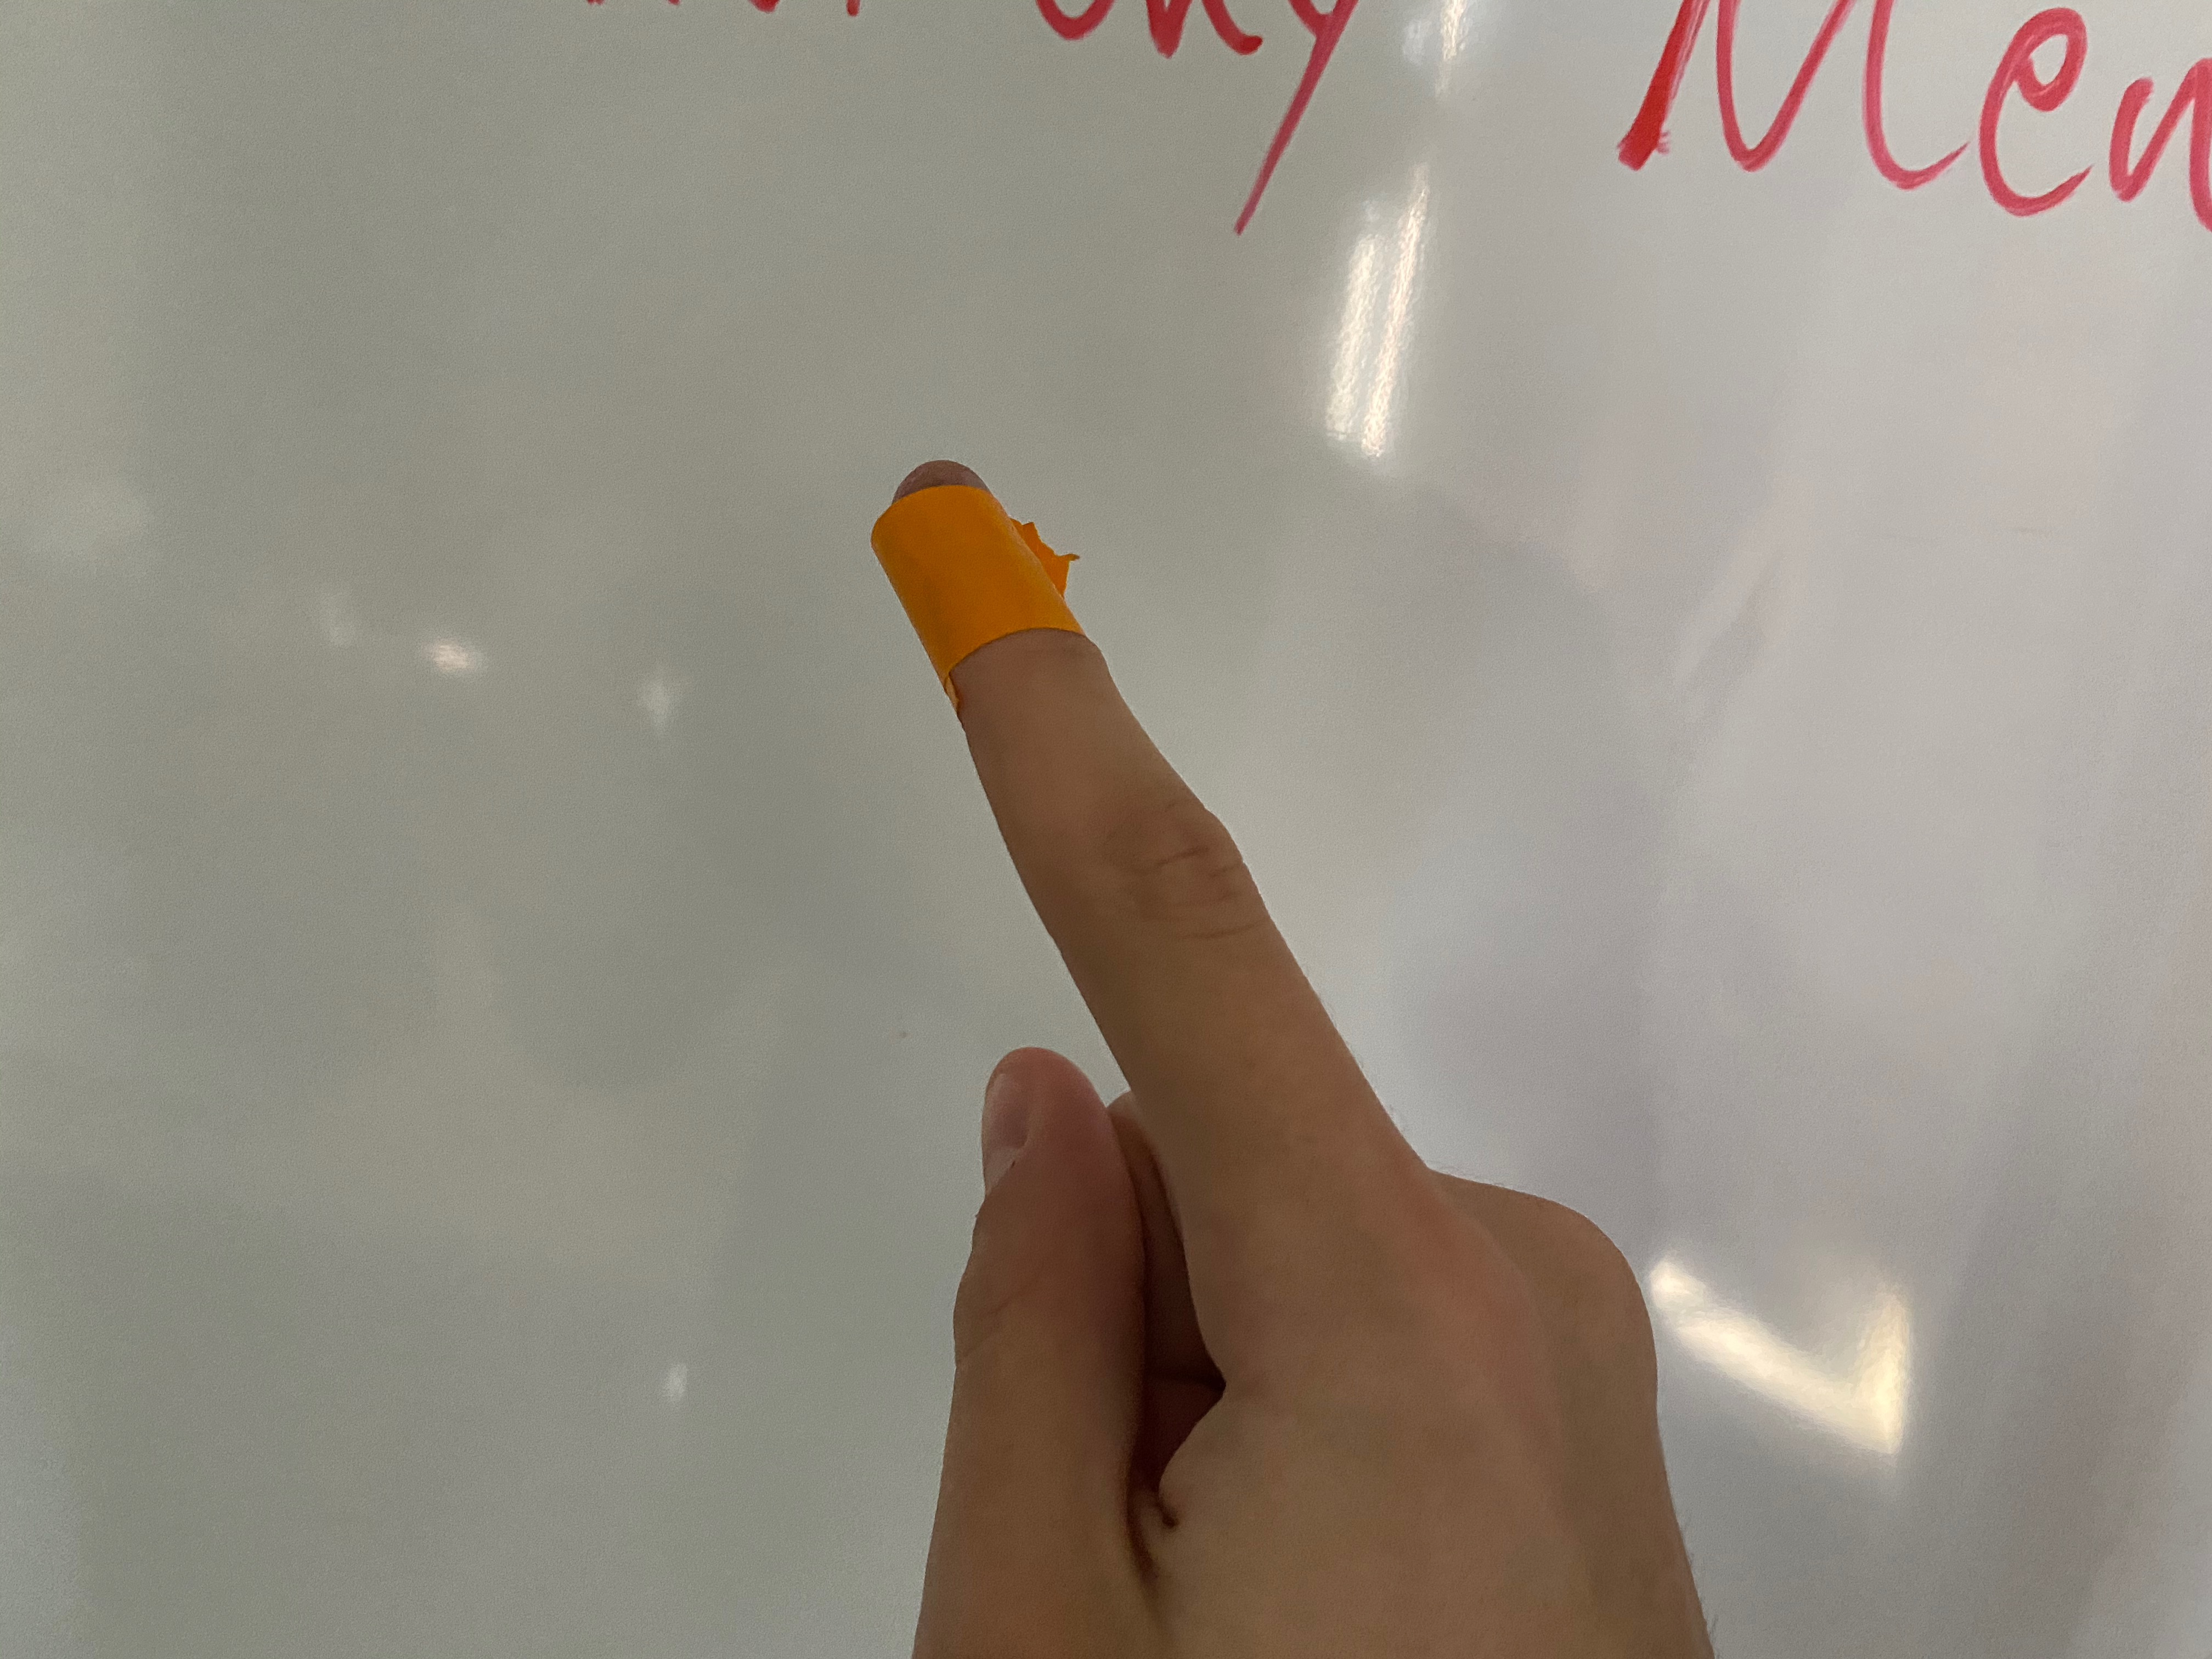fingertip: (834, 450, 1163, 730)
